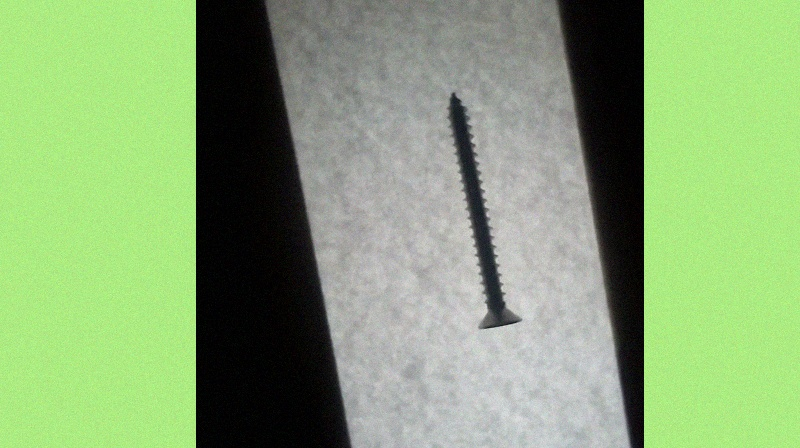S002: (444, 87, 523, 331)
